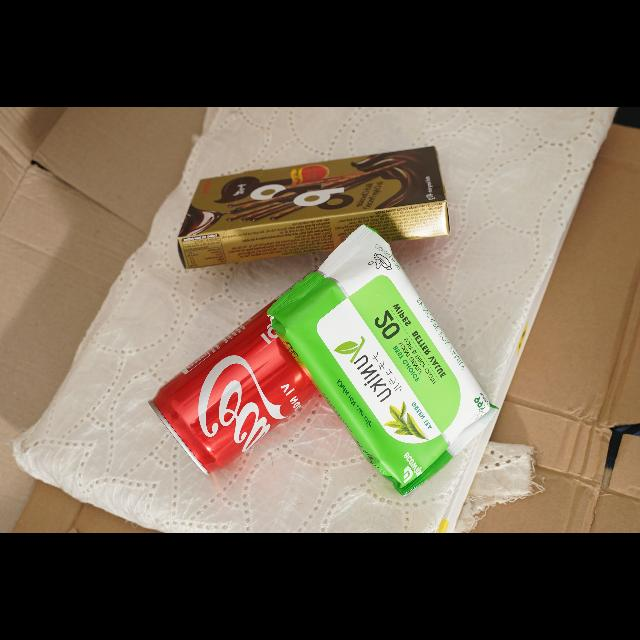banh_toppo_socola: (177, 147, 449, 269)
coca_cola: (152, 301, 318, 473)
khan_giay: (268, 226, 497, 487)
